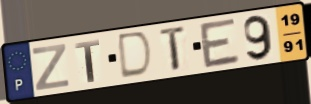9: (242, 14, 275, 63)
D: (117, 30, 155, 81)
E: (197, 16, 243, 70)
T: (158, 23, 188, 74), (73, 38, 102, 84)
Z: (30, 42, 71, 93)
